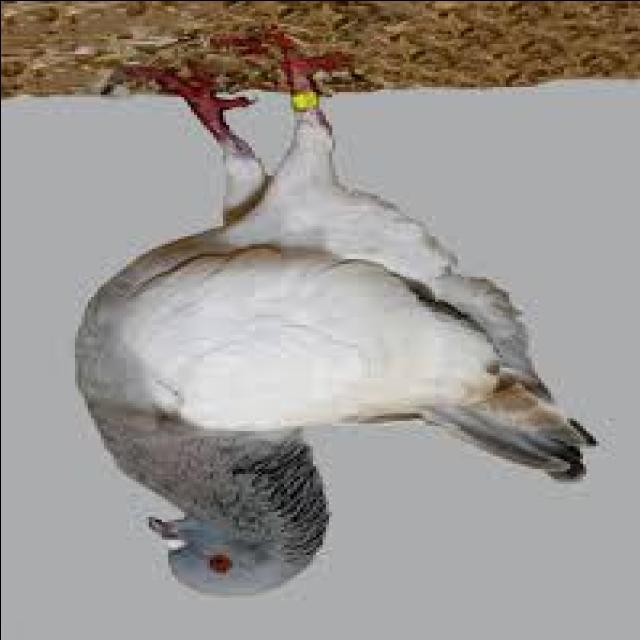pigeon: (1, 55, 618, 610)
